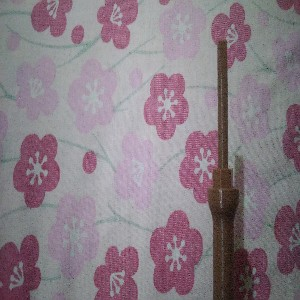obeng: (205, 38, 240, 300)
